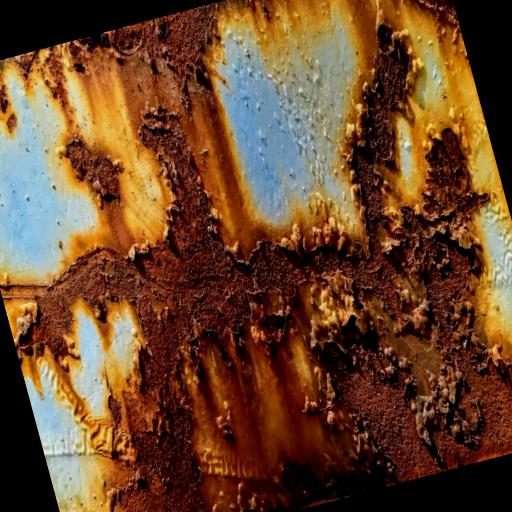corrosion: (13, 100, 345, 443), (150, 267, 371, 512), (206, 0, 374, 225), (311, 323, 451, 492), (16, 329, 124, 473), (117, 396, 208, 512), (354, 33, 415, 164), (53, 125, 139, 208), (406, 125, 477, 214), (32, 44, 74, 110), (0, 281, 53, 299), (13, 47, 45, 75), (313, 245, 341, 273), (80, 31, 110, 51), (65, 38, 82, 56), (0, 85, 6, 110)
